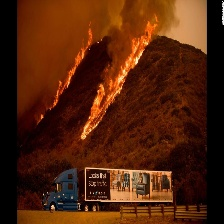fire: (78, 1, 184, 42), (107, 46, 134, 103), (80, 85, 104, 140), (51, 70, 73, 109), (133, 24, 154, 63), (75, 32, 93, 69), (35, 110, 46, 126)
smoke: (19, 3, 70, 94)
